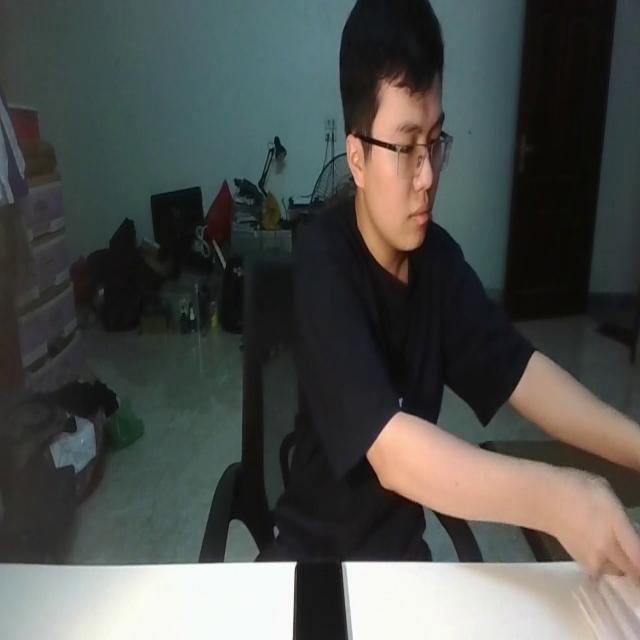phone: (292, 557, 348, 640)
student: (281, 0, 640, 585)
